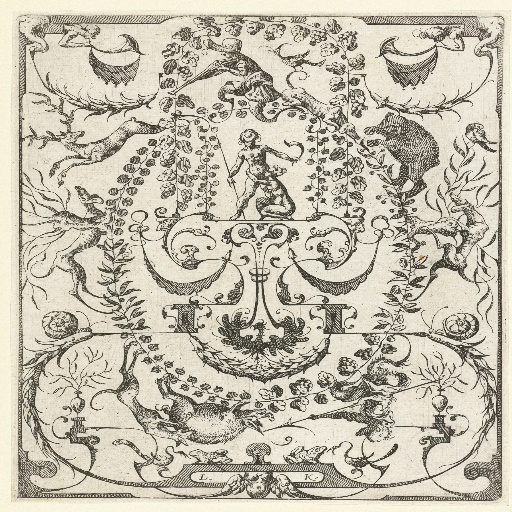hand: (224, 173, 237, 182), (211, 63, 225, 71), (290, 156, 300, 163), (82, 39, 89, 47), (434, 40, 442, 47), (244, 166, 249, 173)
